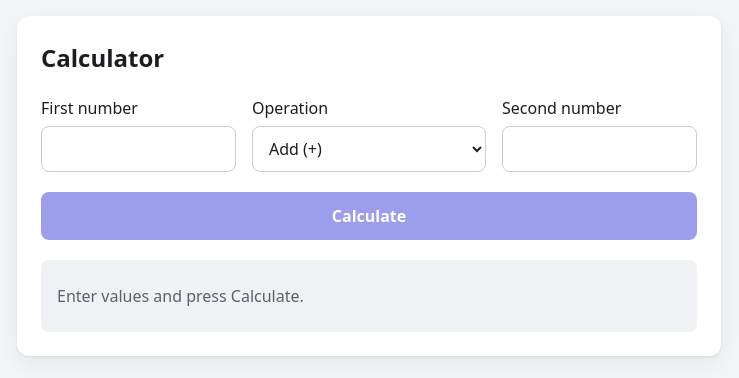
Test: Calculator › calculates and shows the result
Type "5" into the field labelled "First number" at (138, 149), box [41,126,236,172]
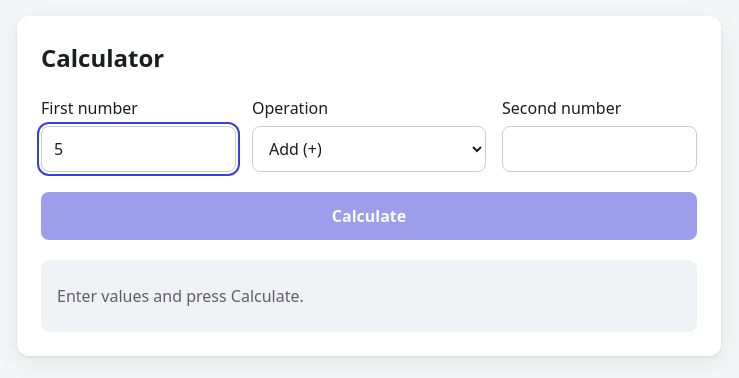
Select "Multiply (×)" in the dropdown labelled "Operation" at (369, 149), box [252,126,486,172]
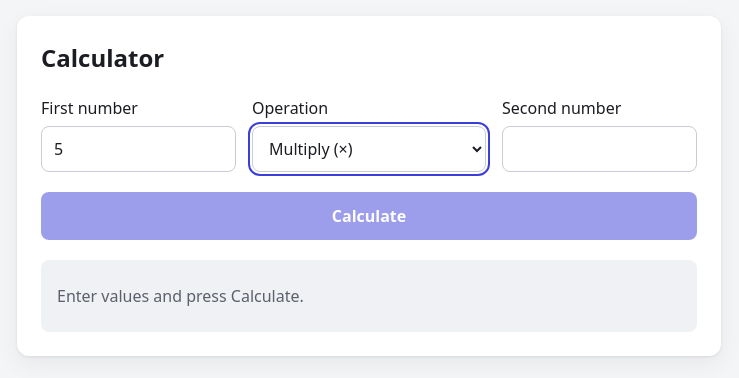
Type "3" into the field labelled "Second number" at (600, 149), box [502,126,697,172]
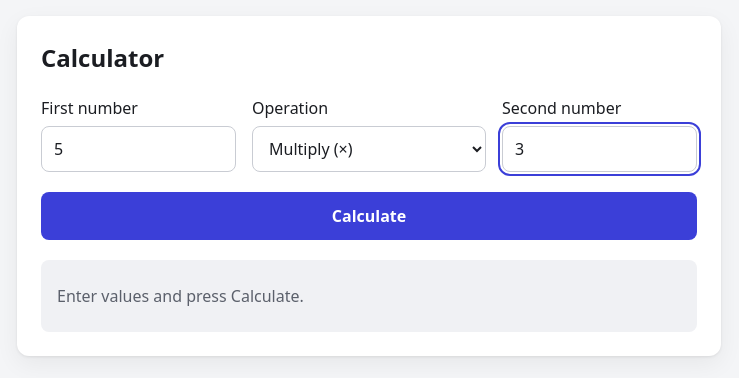
Click the button "Calculate" at (369, 216), box [41,192,697,240]
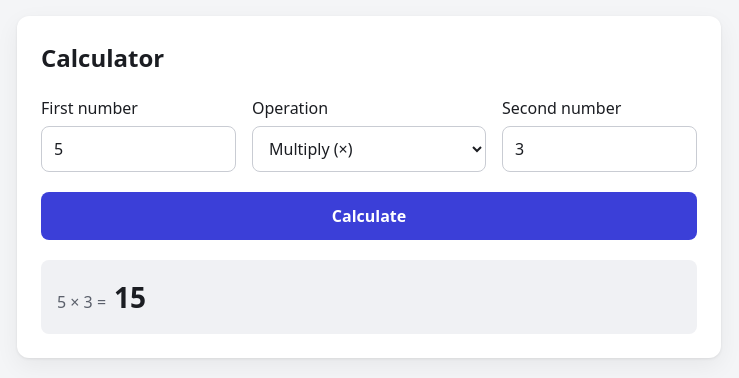
Check: the text "15" is shown, box [114,276,146,318]
Check: the text "5 × 3 =" is shown, box [57,290,106,314]
